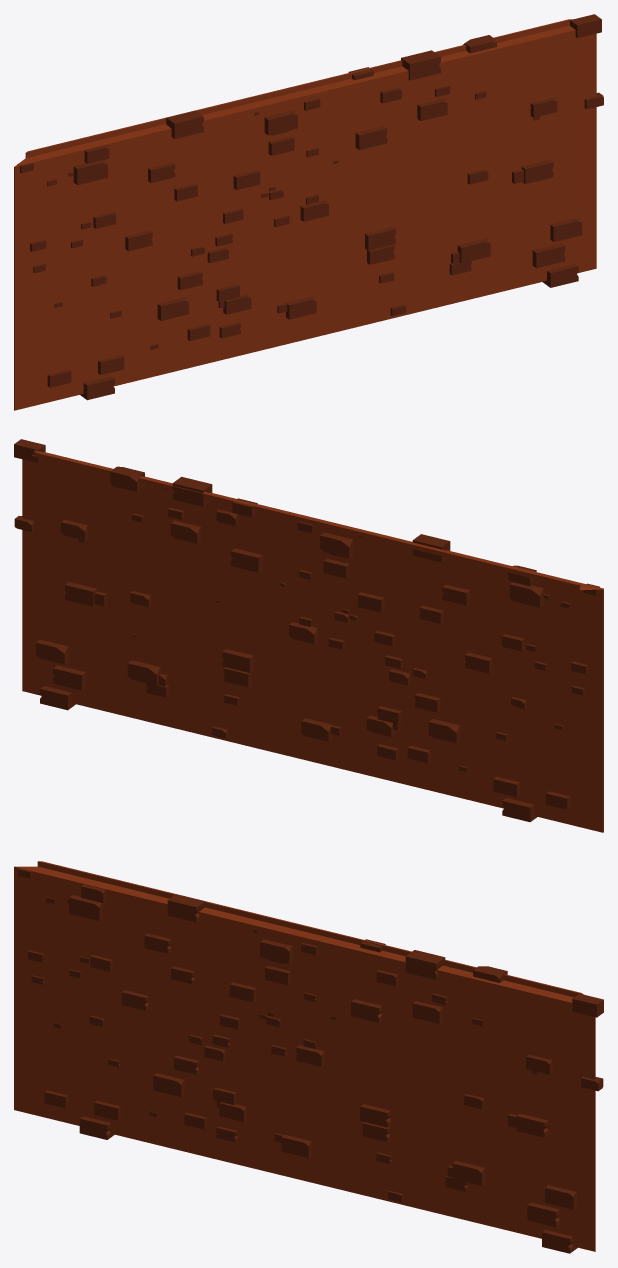
Rendered from LongWall_33__33.fbx.
3 views of the same model, one above another, from view 1: azimuth 30°, elevation 25°; view 2: azimuth 150°, elevation 25°; view 3: azimuth 330°, elevation 25° (orthographic).
Visible parts, largest first — view 1: WallLong|Cube.017|Dupli|78; view 2: WallLong|Cube.017|Dupli|78; view 3: WallLong|Cube.017|Dupli|78.
Boxes of the visible parts, bbox=[...] form: WallLong|Cube.017|Dupli|78: bbox=[14, 14, 603, 410]; WallLong|Cube.017|Dupli|78: bbox=[14, 439, 603, 832]; WallLong|Cube.017|Dupli|78: bbox=[14, 861, 603, 1253].
Bounding box in the file's own units: 1009 × 420 × 41.35.
